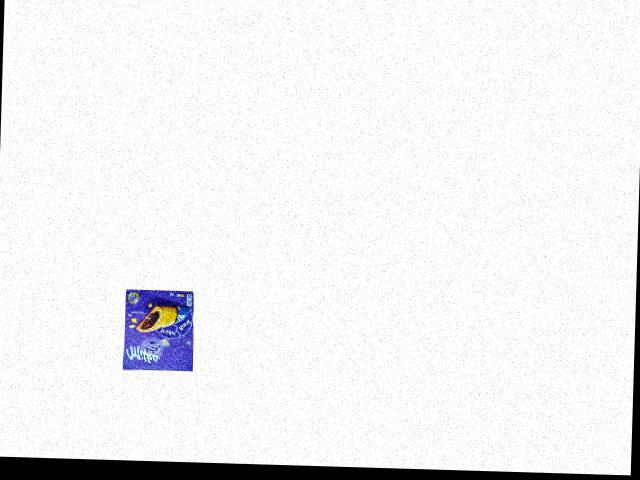chocolate: (118, 283, 198, 376)
